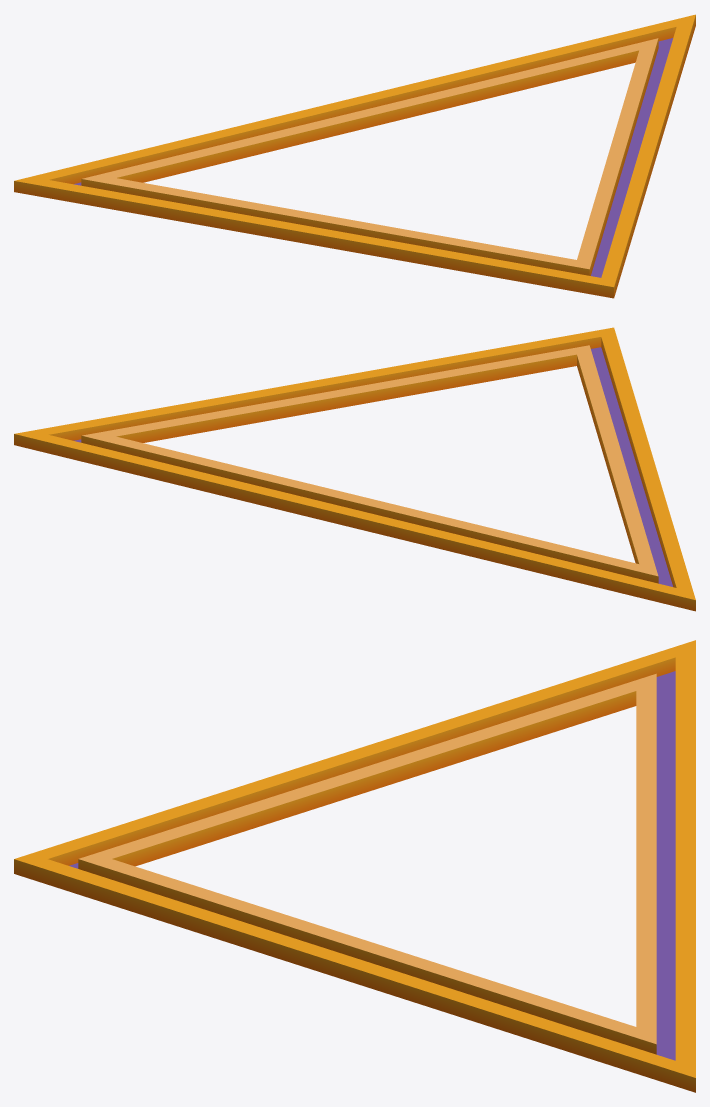
Rendered from Gound_Socket_05_v02.fbx.
3 renders of one model, top to bottom at view 1: azimuth 30°, elevation 25°; view 2: azimuth 150°, elevation 25°; view 3: azimuth 270°, elevation 25°, orthographic. The views are drawn at different scales.
Parts seen in each view (by area): view 1: Obstacle_Gound_Socket_05_v02; view 2: Obstacle_Gound_Socket_05_v02; view 3: Obstacle_Gound_Socket_05_v02.
Boxes of the visible parts, x1,y1,x2,y2 form: Obstacle_Gound_Socket_05_v02: (14,14,695,298); Obstacle_Gound_Socket_05_v02: (14,327,695,611); Obstacle_Gound_Socket_05_v02: (14,640,695,1092).
Bounding box in the file's own units: 318 × 5.09 × 209.
1 material, 1 textured.
